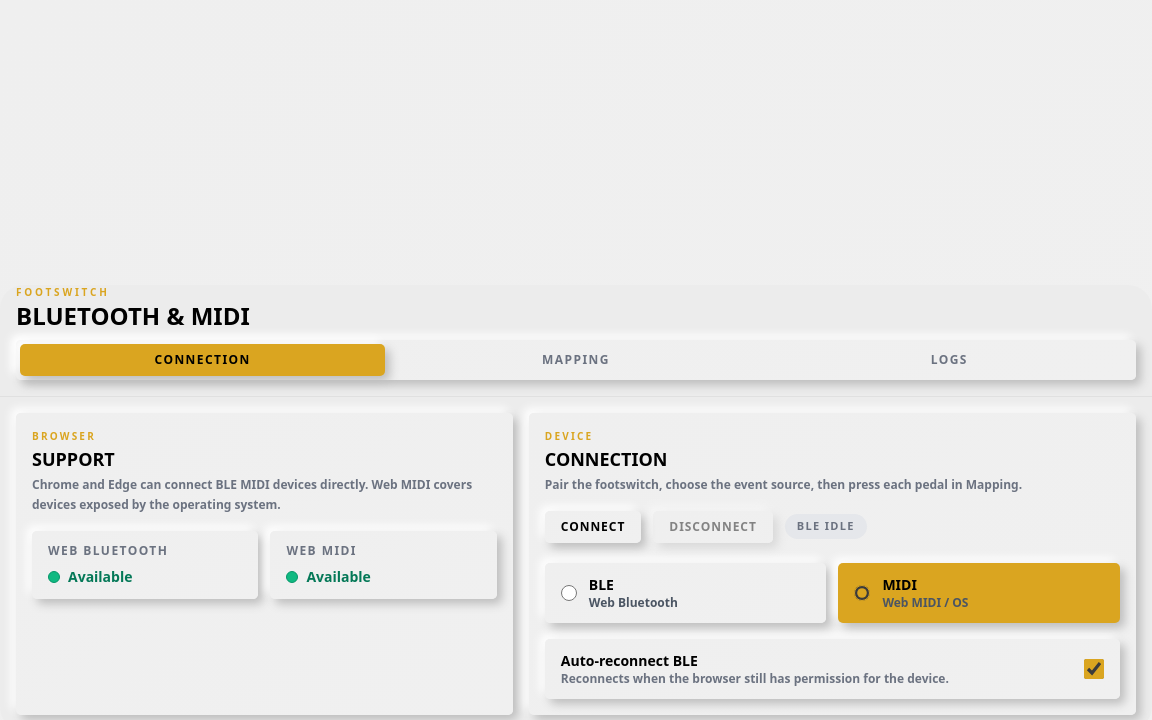
Bluetooth footswitch mapping › renders fixed functions instead of action selectors
What coordinates should you click on to do the following:
click the button "Mapping"
I would click on:
 (576, 360)
Its box is [393,344,759,376].
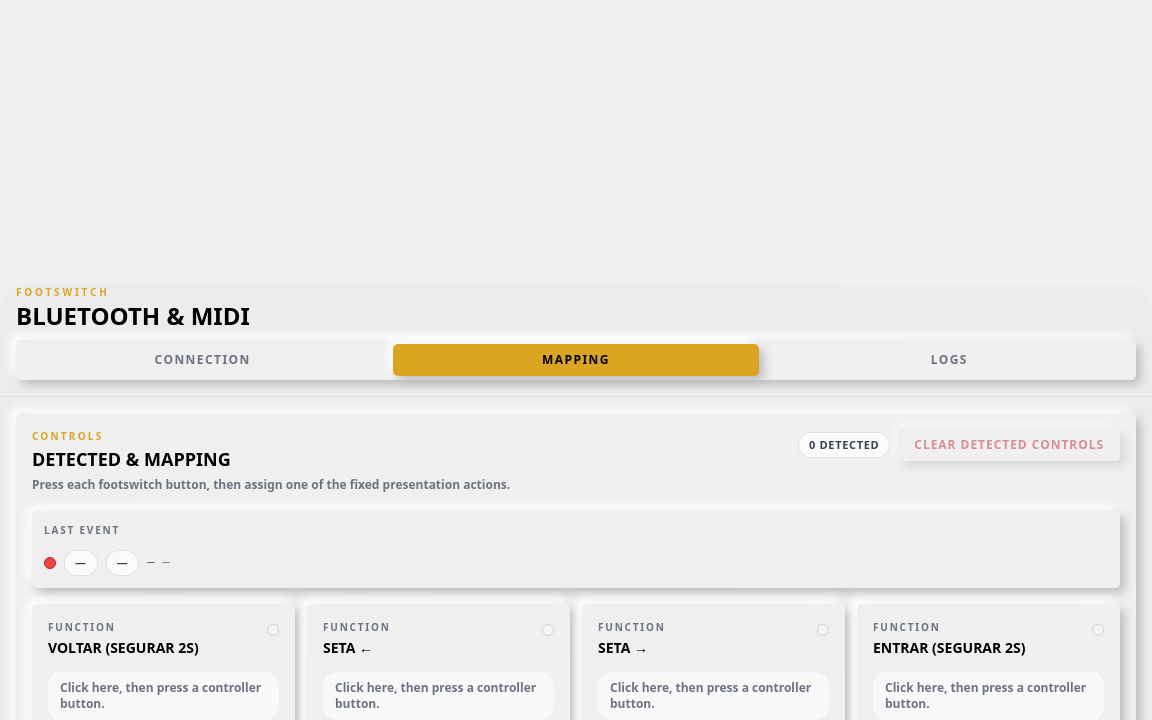
Result: the heading "Seta ←" is shown at [323,638,373,656]
Result: the heading "Entrar (segurar 2s)" is shown at [873,638,1025,656]
